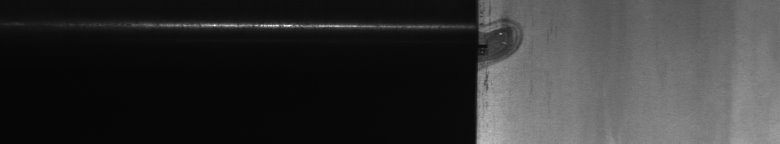hb: (488, 4, 529, 76)
